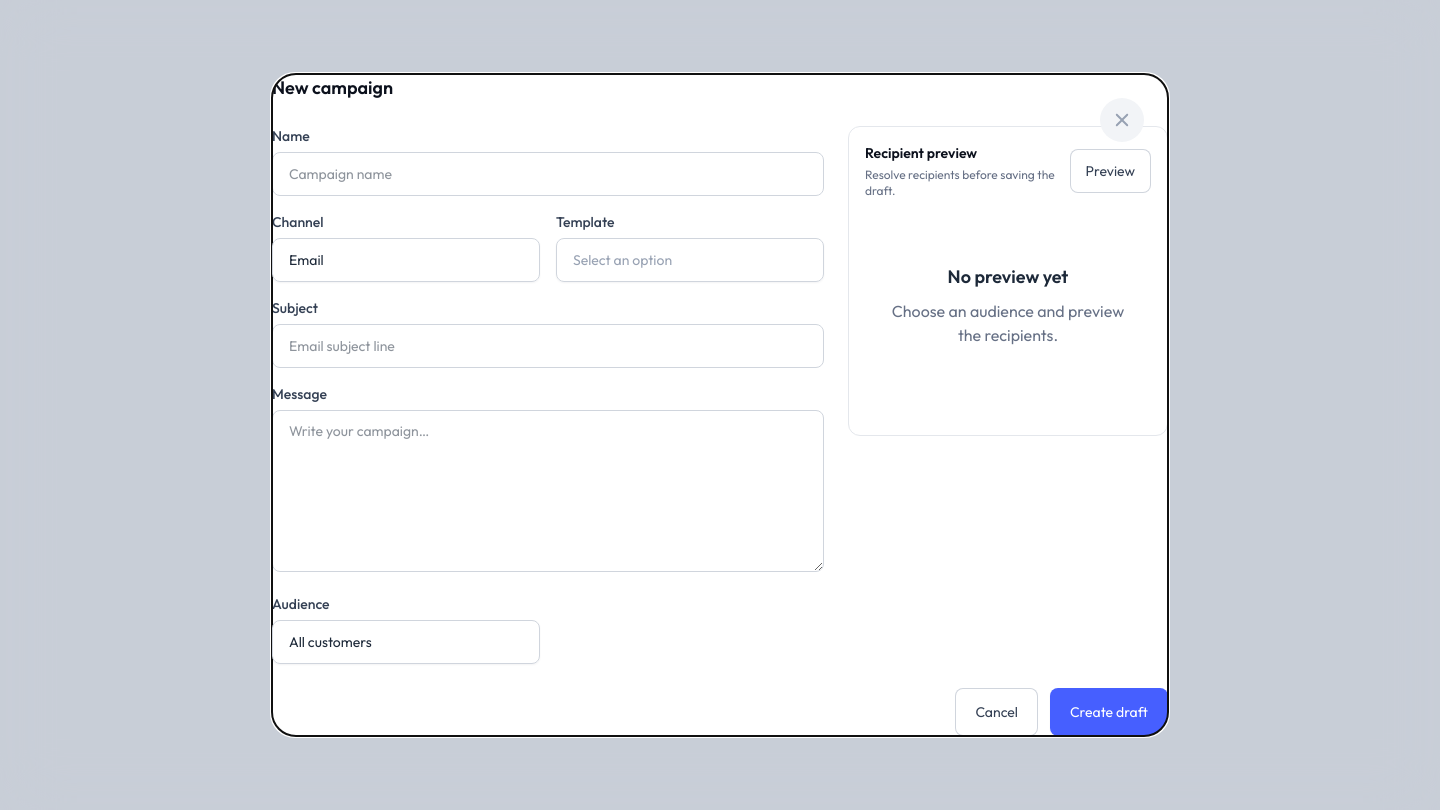
it: CampaignEditorModal › audience selection previews recipients
Step 1. Select "Customers from a departure" in the dropdown labelled "Audience" → point(406, 642), box [272,620,540,664]
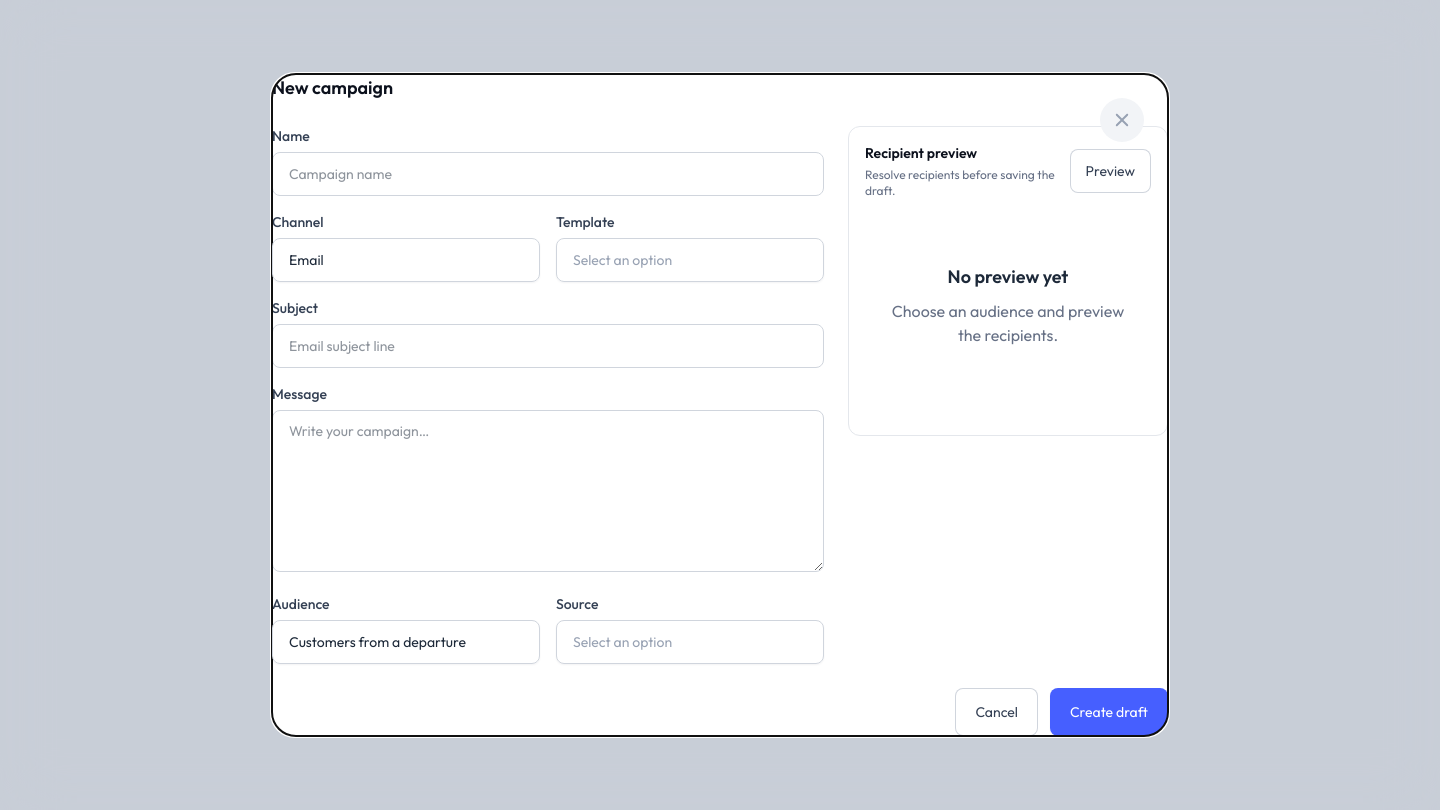
Step 2. Select "Antalya · 9/1/2026" in the dropdown labelled "Source" → point(690, 642), box [556,620,824,664]
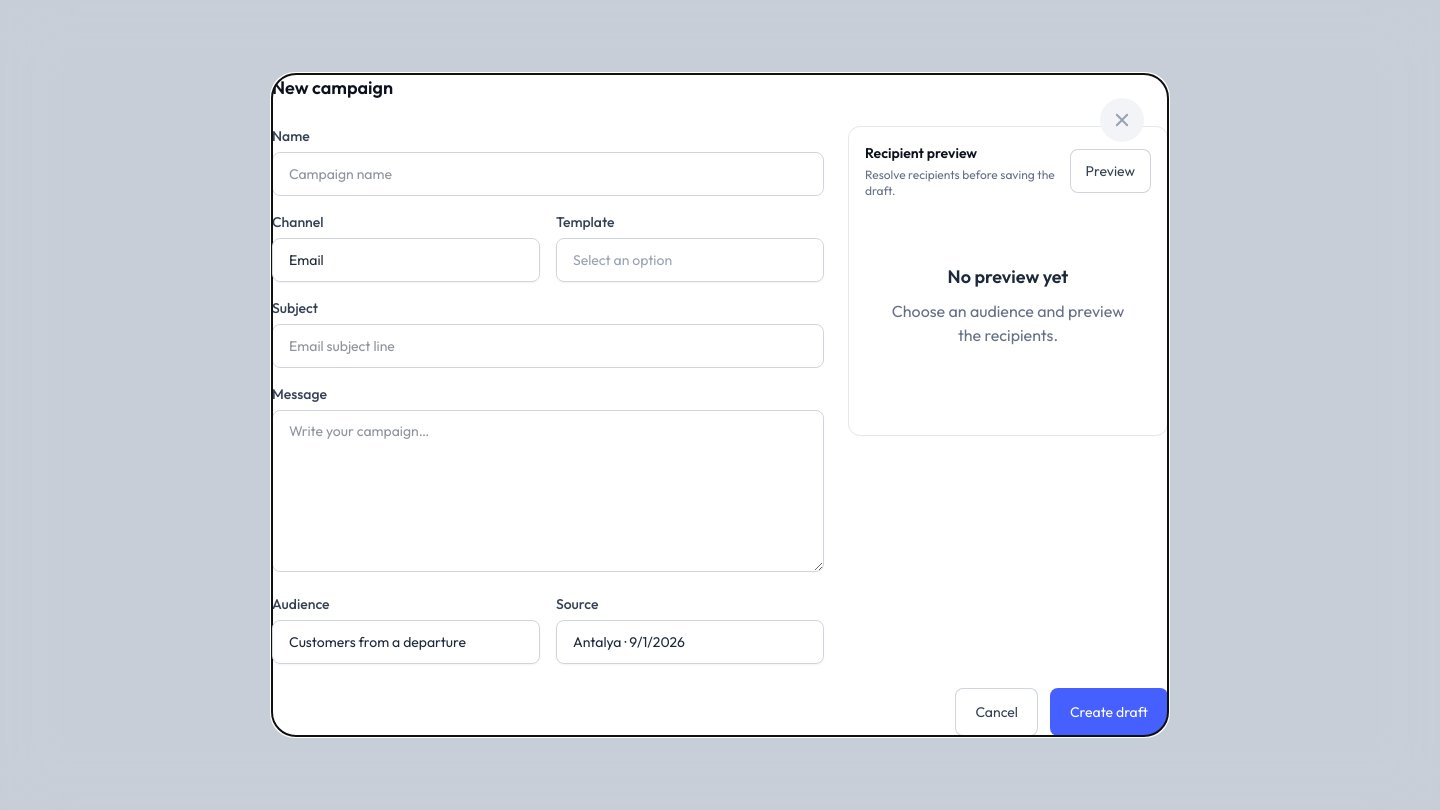
Step 3. Click the button "Preview" → point(1110, 171), box [1070,149,1151,193]
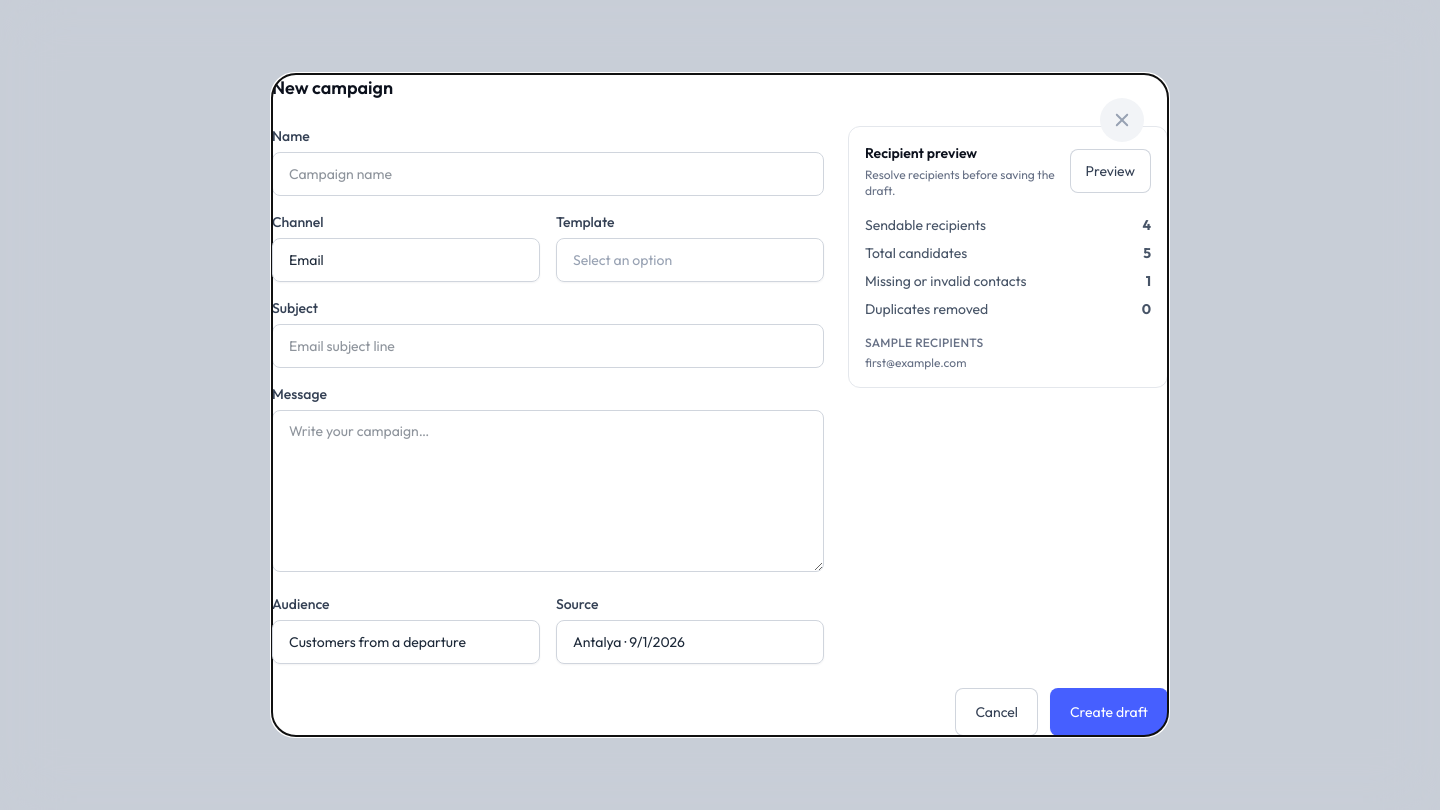
Expected: the text "Sendable recipients" is shown, [865,215,986,235]
Expected: the text "4" is shown, [1142,215,1151,235]
